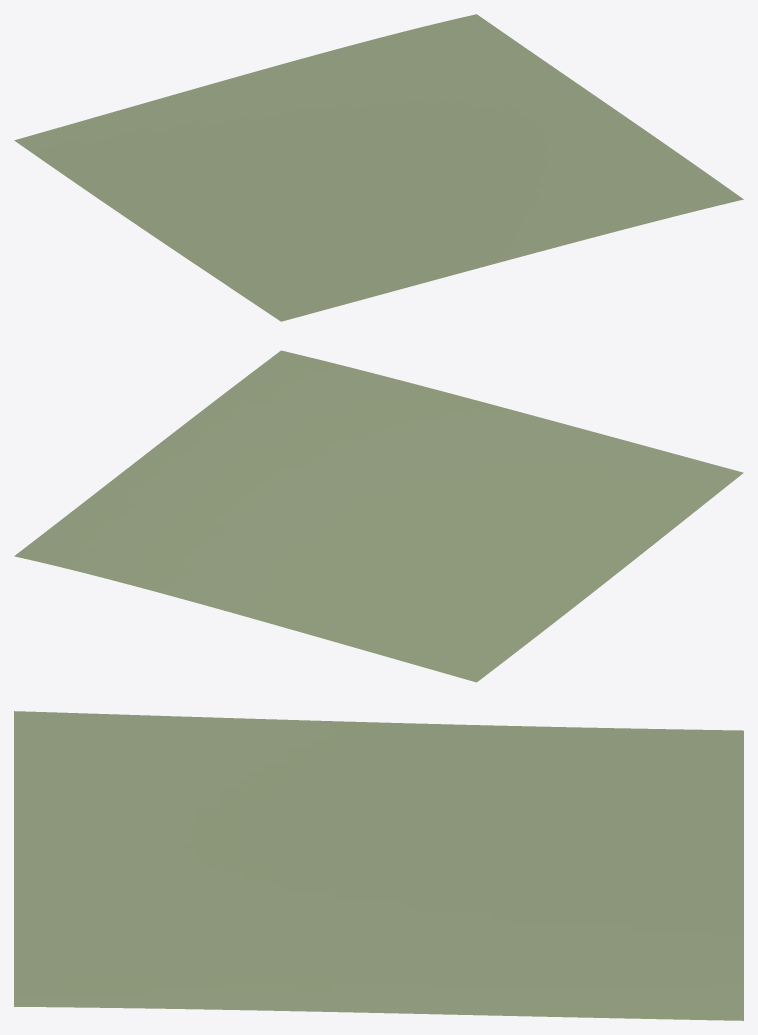
File: expanse-11-26.glb
3 views of the same model, one above another, from view 1: azimuth 30°, elevation 25°; view 2: azimuth 150°, elevation 25°; view 3: azimuth 270°, elevation 25° (orthographic). The views are drawn at different scales.
Parts seen in each view (by area): view 1: expanse-11-26; view 2: expanse-11-26; view 3: expanse-11-26.
Part boxes in pixels (<box>): expanse-11-26: <box>14,14,743,321</box>; expanse-11-26: <box>14,350,743,682</box>; expanse-11-26: <box>14,711,743,1020</box>.
Size of the model in its own units: 256 by 12.51 by 256.
